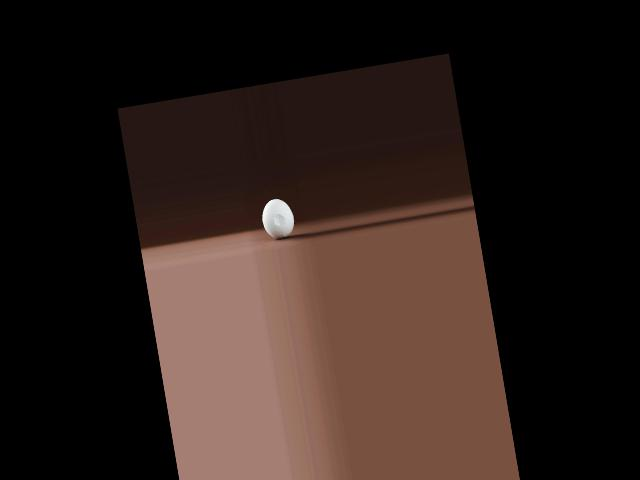egg: (259, 196, 296, 241)
